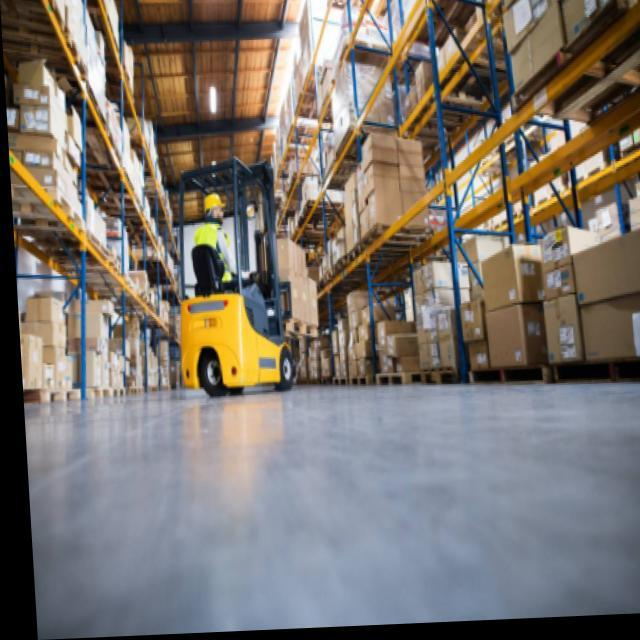hard_hat: (203, 190, 228, 225)
vest: (192, 220, 237, 286)
